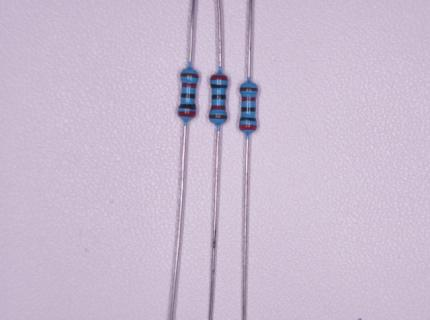Black band: (178, 104, 196, 110), (181, 93, 195, 99), (240, 117, 256, 122), (241, 107, 256, 112), (211, 84, 227, 88), (211, 95, 226, 99)
Brown band: (181, 73, 198, 78), (240, 88, 258, 92), (209, 115, 226, 119)
Red band: (239, 124, 257, 130), (178, 111, 196, 117), (211, 75, 228, 80), (182, 83, 196, 88), (211, 105, 225, 110), (242, 97, 256, 101)
